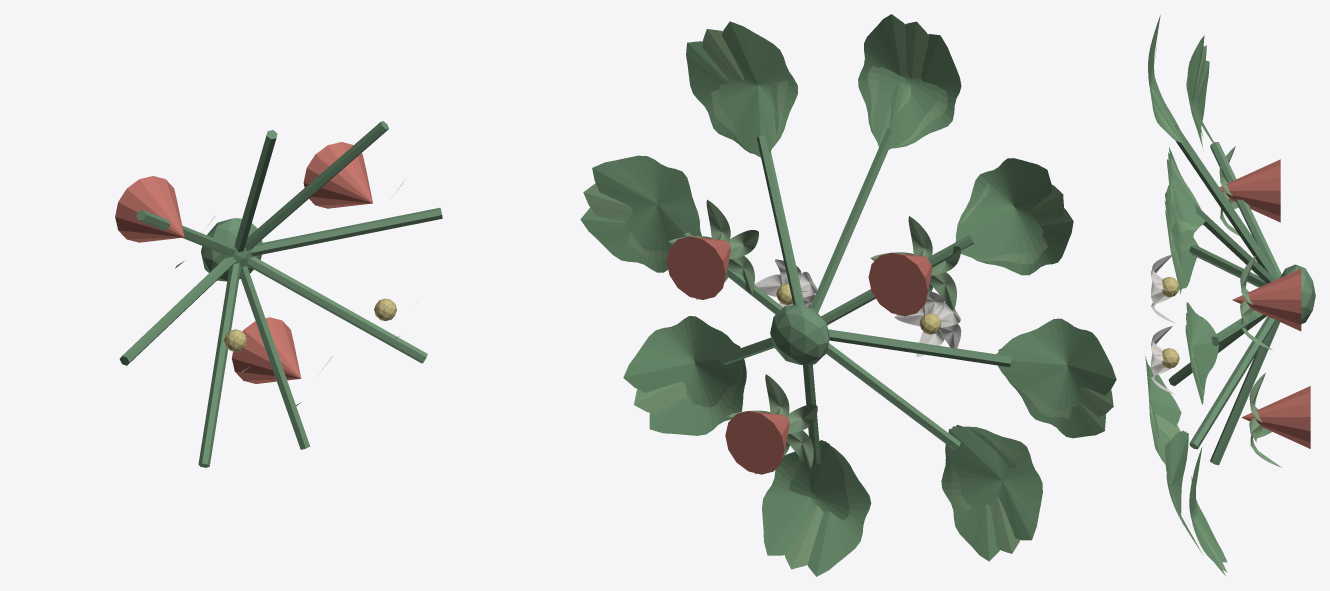
Rendered from strawberry_b.glb.
3 views of the same model, side by side, from view 1: azimuth 30°, elevation 25°; view 2: azimuth 150°, elevation 25°; view 3: azimuth 270°, elevation 25° (orthographic). The views are drawn at different scales.
Visible parts, largest first — view 1: Stem, FruitRed, Flowers; view 2: Leaves, Stem, FruitRed, Calyx, Flowers; view 3: Leaves, Stem, FruitRed, Calyx, Flowers.
Boxes of the visible parts, x1=… form: Stem: x1=119, y1=121, x2=442, y2=467; FruitRed: x1=115, y1=142, x2=372, y2=383; Flowers: x1=224, y1=298, x2=399, y2=373; Leaves: x1=580, y1=14, x2=1116, y2=576; Stem: x1=683, y1=128, x2=1011, y2=464; FruitRed: x1=666, y1=236, x2=932, y2=474; Calyx: x1=668, y1=199, x2=960, y2=474; Flowers: x1=754, y1=259, x2=961, y2=357; Leaves: x1=1145, y1=15, x2=1227, y2=575; Stem: x1=1168, y1=125, x2=1315, y2=465; FruitRed: x1=1219, y1=159, x2=1310, y2=448; Calyx: x1=1219, y1=146, x2=1281, y2=467; Flowers: x1=1151, y1=255, x2=1179, y2=394.
Bounding box in the file's own units: 0.4942 × 0.4919 × 0.1475.
